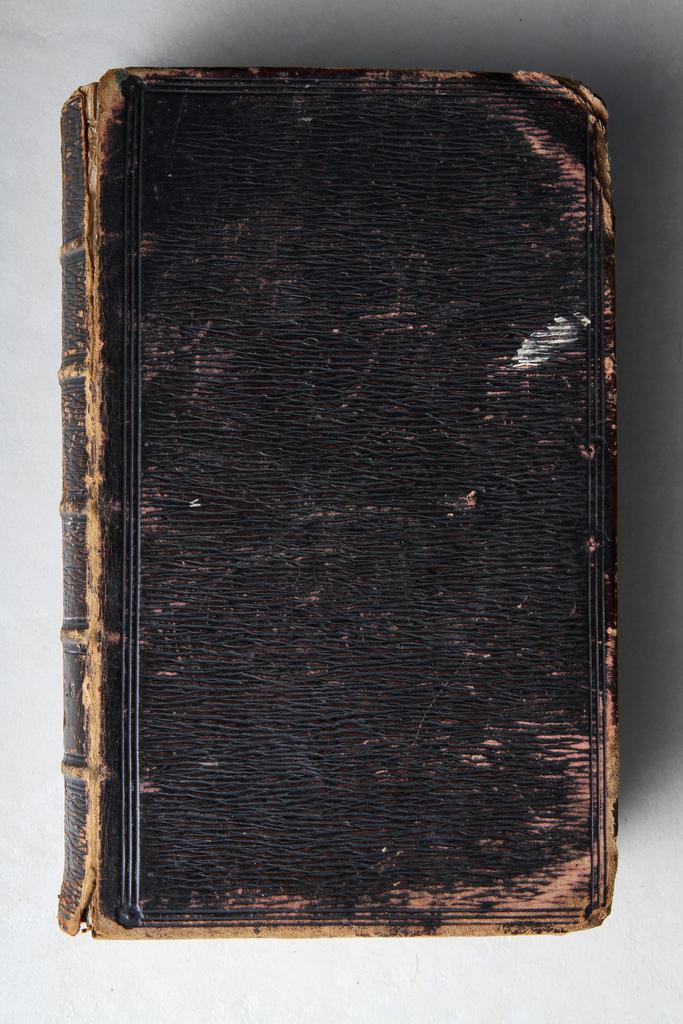book: (53, 39, 649, 863)
